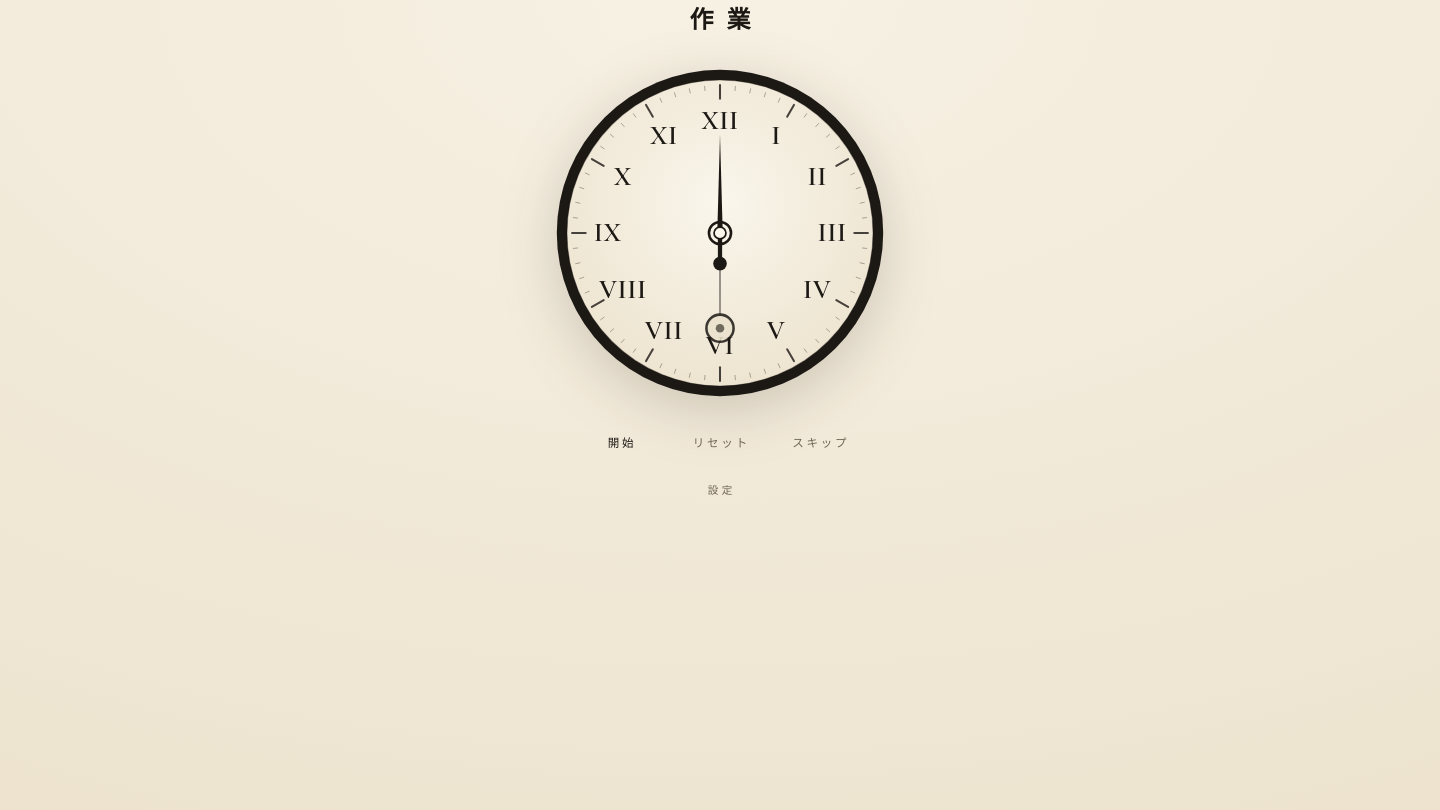
Scenario: PomodoroTimer › 通知が拒否済みなら通知トグルが無効化される
Click the button "設定": (722, 490) [702, 481, 742, 498]
(page scrolled)
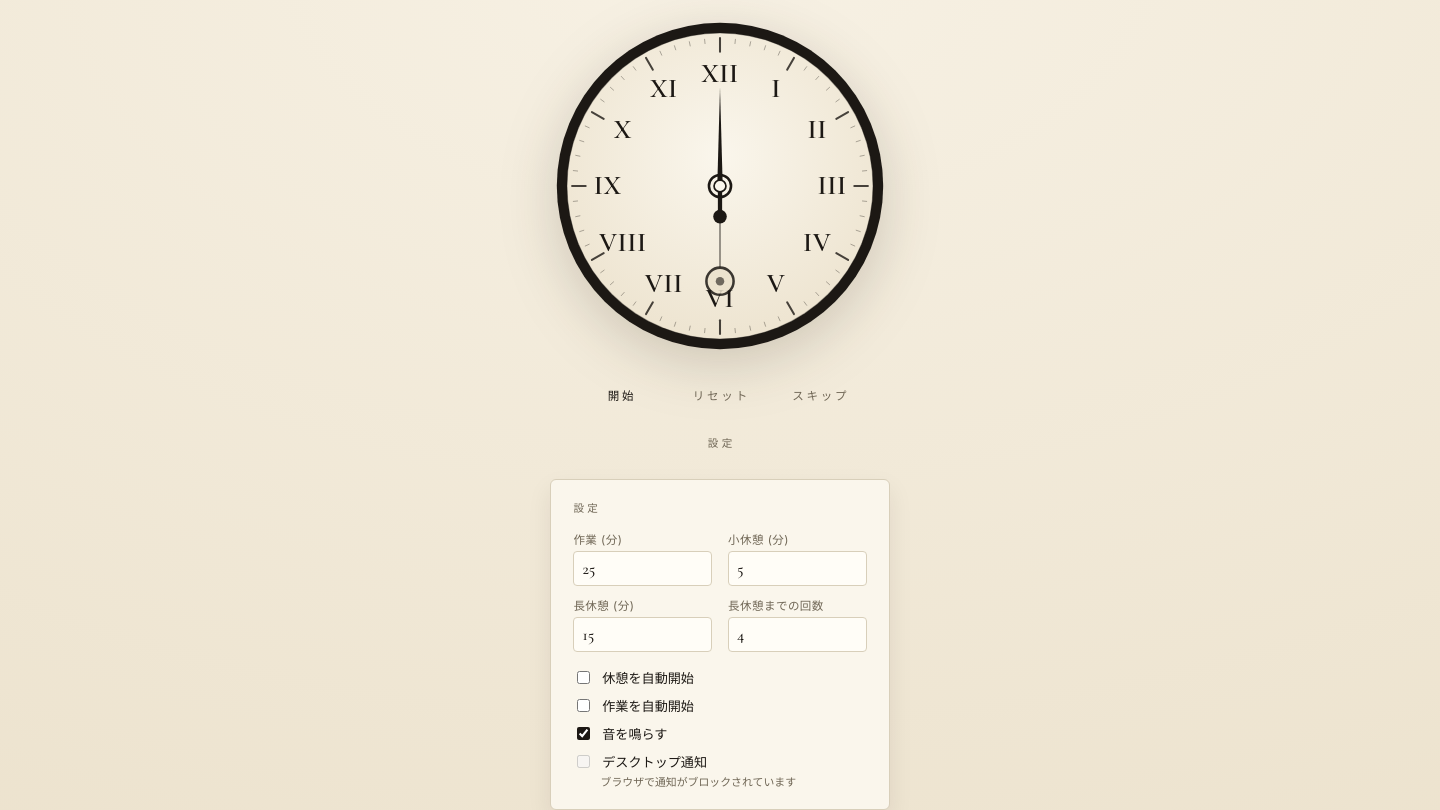
expect the checkbox labelled "デスクトップ通知" is disabled: met, box [577, 754, 590, 768]
